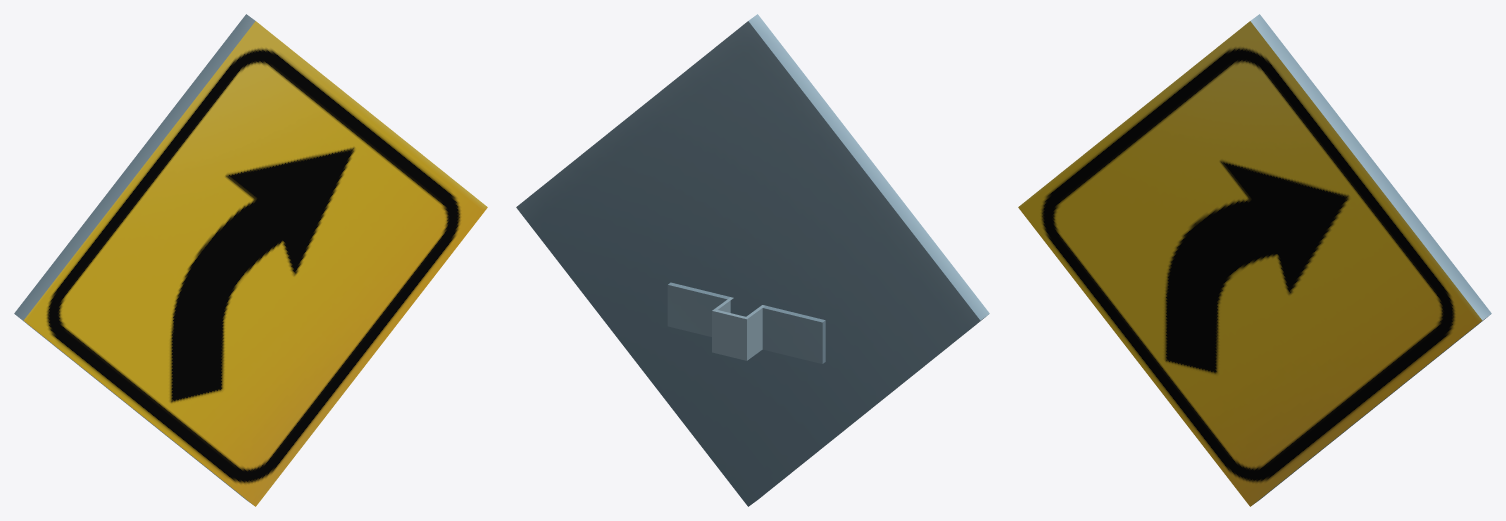
Rendered from Sign19.fbx.
3 renders of one model, left to right at view 1: azimuth 30°, elevation 25°; view 2: azimuth 150°, elevation 25°; view 3: azimuth 330°, elevation 25°, orthographic.
Visible parts, largest first — view 1: Sign19; view 2: Sign19; view 3: Sign19.
Boxes of the visible parts, <box> form: Sign19: <box>14,14,487,506</box>; Sign19: <box>516,14,989,506</box>; Sign19: <box>1018,14,1491,506</box>.
Size of the model in its own units: 1.41 by 0.1489 by 1.41.
